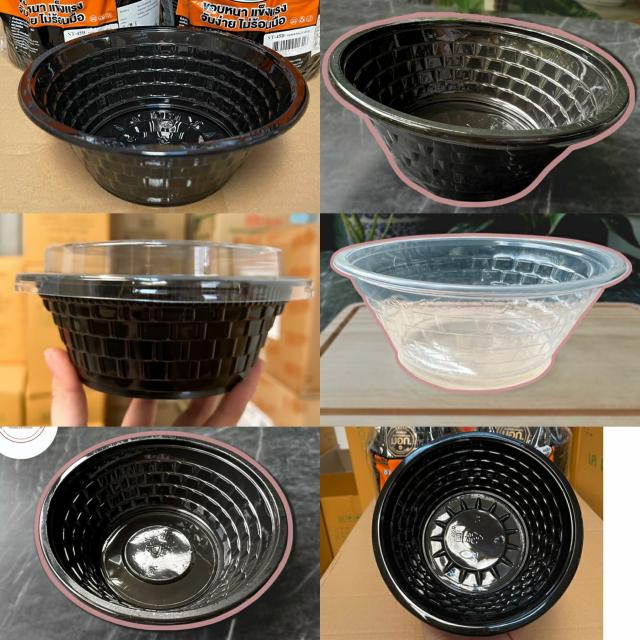Single-Use-Plastic: (324, 14, 634, 205), (19, 28, 308, 205), (35, 431, 293, 629), (16, 241, 313, 398), (332, 235, 630, 391), (372, 431, 583, 636)
